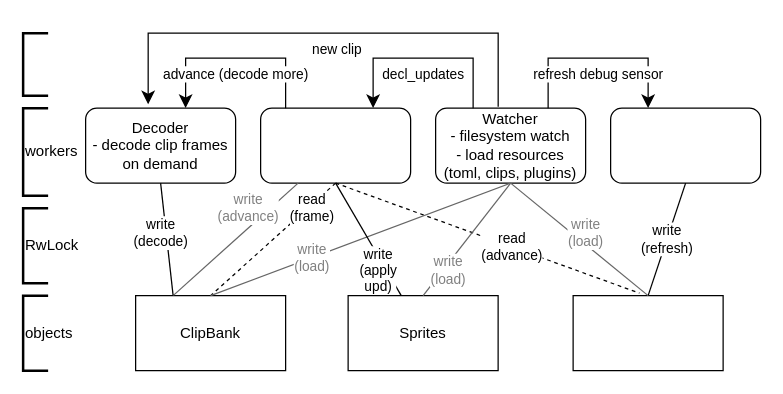
This 783x394 diagram has some shape labels left out. The centre of each missing label's shape, as x and y in pixels:
Animator - sprites render - frame advance - state transition: the point at 335,145
MPSC: the point at 35,63
Poller - periodic updates of sensing values: the point at 685,145
Sensors: the point at 647,332
